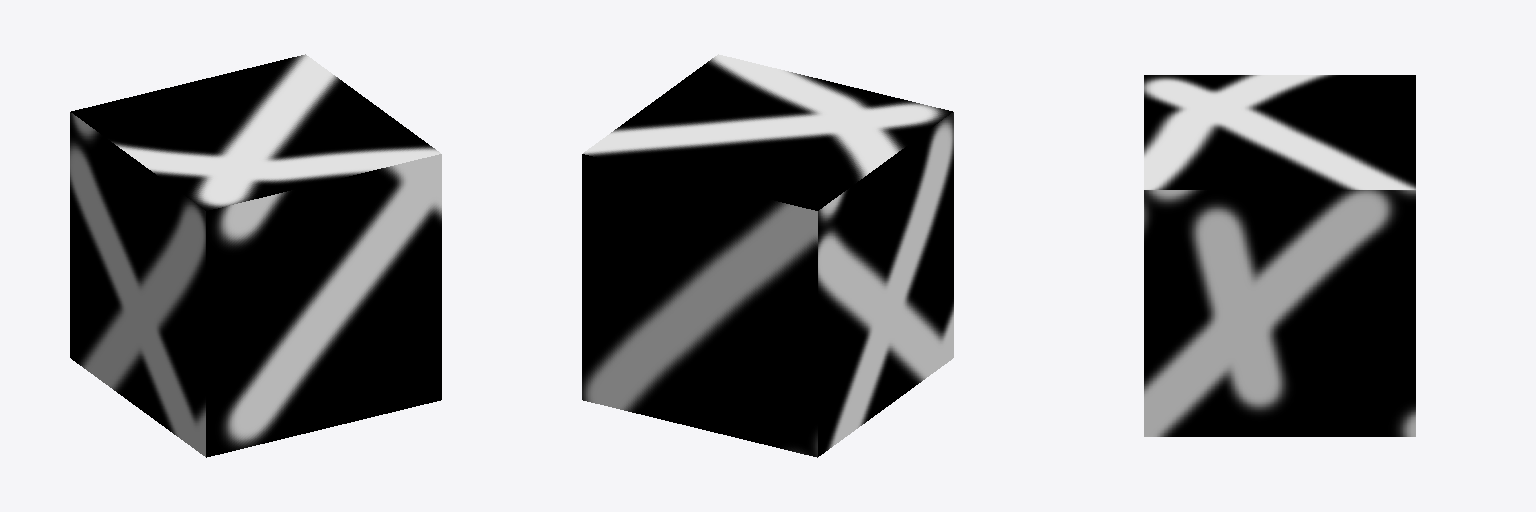
3 renders of one model, left to right at view 1: azimuth 30°, elevation 25°; view 2: azimuth 150°, elevation 25°; view 3: azimuth 270°, elevation 25°, orthographic.
Parts seen in each view (by area): view 1: Cube; view 2: Cube; view 3: Cube.
Boxes of the visible parts, x1,y1,x2,y2 form: Cube: [70, 54, 441, 457]; Cube: [582, 54, 953, 457]; Cube: [1144, 75, 1415, 436].
Size of the model in its own units: 2 by 2 by 2.
Materials: 1 (1 with a texture image).